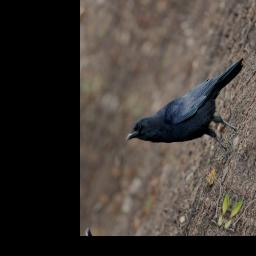Crow: (124, 26, 256, 185)
